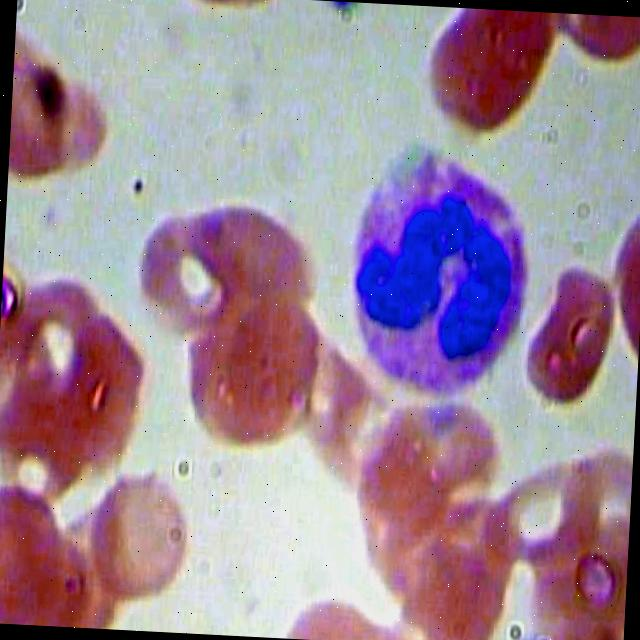RBC: (180, 281, 336, 457), (411, 5, 582, 140), (77, 444, 201, 620), (519, 234, 622, 420), (351, 412, 476, 554), (193, 180, 315, 324), (133, 202, 254, 346), (20, 490, 142, 631), (0, 263, 119, 407), (379, 535, 513, 640), (302, 361, 404, 492), (0, 464, 73, 626), (7, 44, 86, 188), (598, 185, 640, 384), (265, 577, 397, 640), (369, 582, 501, 640)
WBC: (332, 134, 554, 398)
